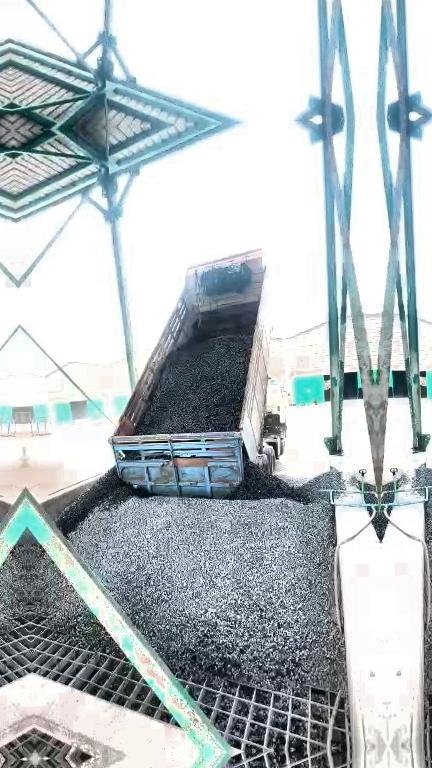gravel: (53, 445, 346, 692), (135, 337, 247, 435), (28, 548, 112, 653)
sand: (25, 460, 85, 502)
